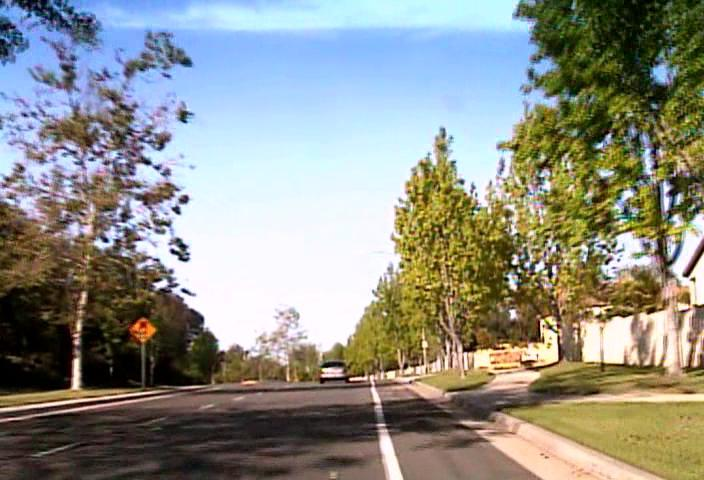signalAhead: (127, 315, 157, 344)
